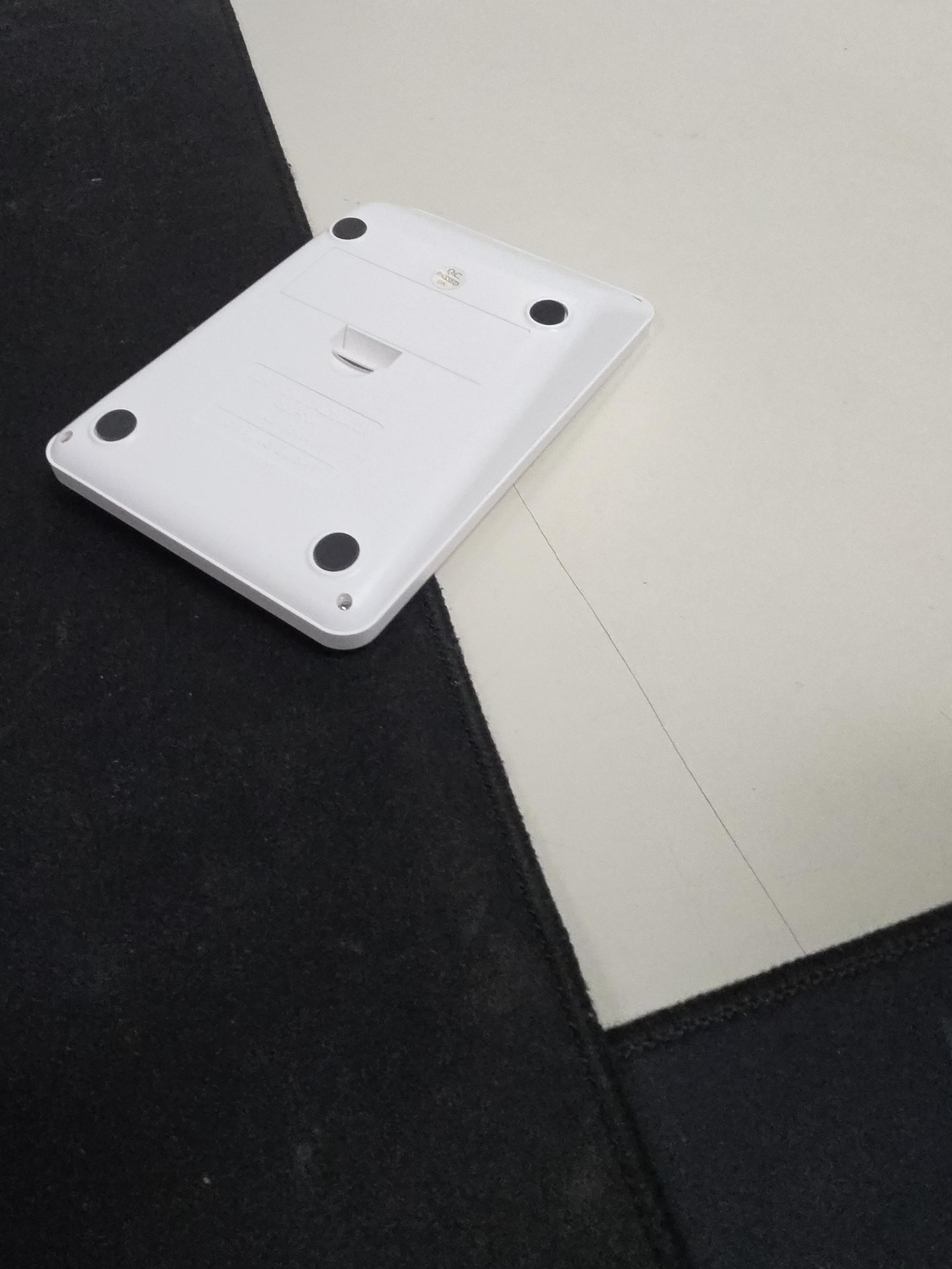calculator: (46, 202, 654, 650)
